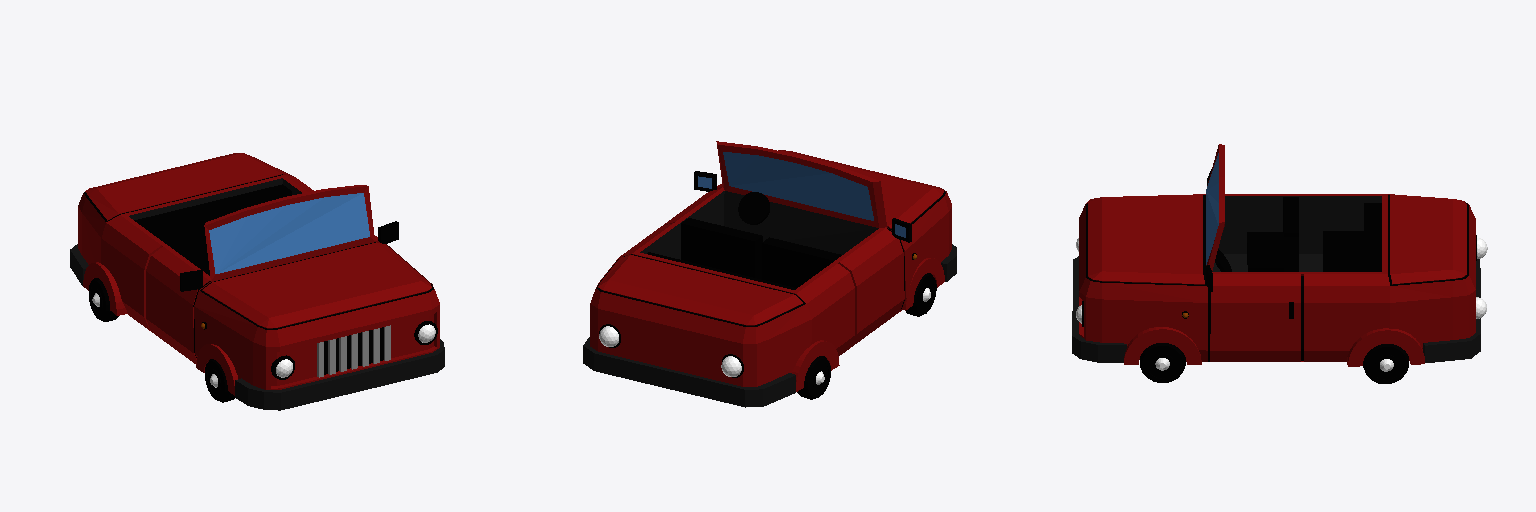
The model's file is Convertible_1380.obj.
3 views of the same model, side by side, from view 1: azimuth 30°, elevation 25°; view 2: azimuth 150°, elevation 25°; view 3: azimuth 270°, elevation 25° (orthographic).
Parts seen in each view (by area): view 1: Convertible_1380; view 2: Convertible_1380; view 3: Convertible_1380.
Boxes of the visible parts, x1,y1,x2,y2 form: Convertible_1380: [70, 153, 444, 410]; Convertible_1380: [583, 141, 956, 407]; Convertible_1380: [1072, 144, 1487, 383].
Size of the model in its own units: 40.28 by 27.69 by 66.22.